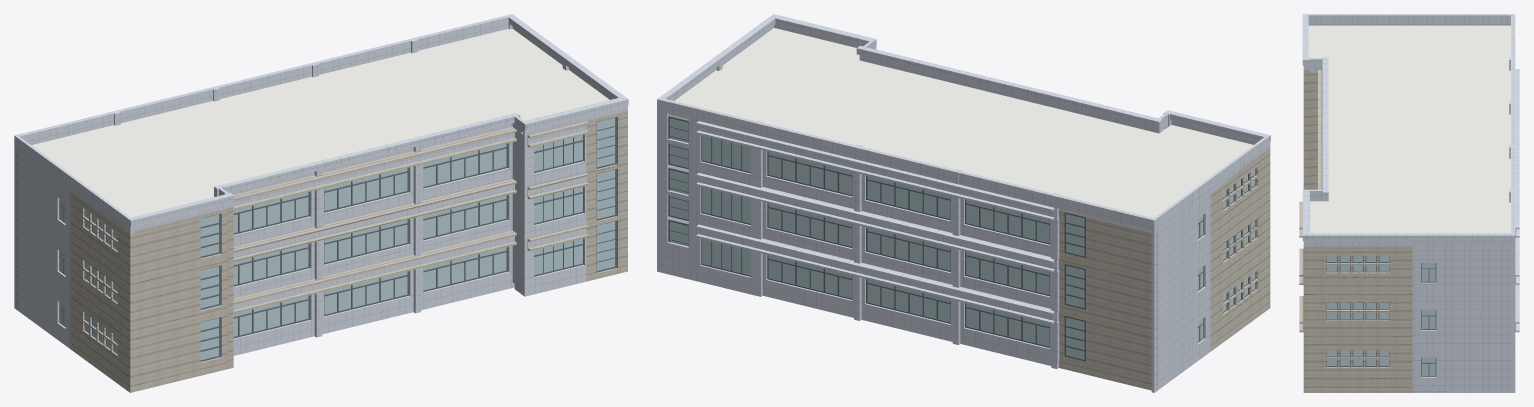
File: bangonglou3.gltf
3 views of the same model, side by side, from view 1: azimuth 30°, elevation 25°; view 2: azimuth 150°, elevation 25°; view 3: azimuth 270°, elevation 25° (orthographic). The views are drawn at different scales.
Visible parts, largest first — view 1: Line01, Rectangle450, Rectangle44, Rectangle49, Rectangle52, Rectangle06, Rectangle18, Rectangle30, Rectangle78, Rectangle116, Rectangle132, Rectangle135 (+57 smaller); view 2: Line01, Rectangle450, Rectangle273, Rectangle191, Rectangle232, Rectangle220, Rectangle194, Rectangle208, Rectangle186, Rectangle116, Rectangle135, Rectangle132 (+53 smaller); view 3: Line01, Rectangle296, Rectangle291, Rectangle299, Rectangle310, Rectangle309, Rectangle311, Rectangle366, Rectangle457, Rectangle305, Rectangle300, Rectangle308 (+25 smaller).
Boxes of the visible parts, bbox=[...] form: Line01: bbox=[31, 28, 609, 217]; Rectangle450: bbox=[14, 15, 508, 148]; Rectangle44: bbox=[128, 208, 227, 283]; Rectangle49: bbox=[128, 260, 227, 335]; Rectangle52: bbox=[128, 312, 227, 386]; Rectangle06: bbox=[233, 127, 512, 246]; Rectangle18: bbox=[233, 179, 512, 298]; Rectangle30: bbox=[233, 231, 512, 350]; Rectangle78: bbox=[586, 111, 625, 281]; Rectangle116: bbox=[214, 112, 520, 195]; Rectangle132: bbox=[70, 240, 132, 335]; Rectangle135: bbox=[70, 292, 132, 387]; Line01: bbox=[669, 28, 1253, 232]; Rectangle450: bbox=[663, 99, 1156, 231]; Rectangle273: bbox=[657, 105, 698, 275]; Rectangle191: bbox=[1059, 259, 1157, 333]; Rectangle232: bbox=[762, 239, 1059, 360]; Rectangle220: bbox=[762, 188, 1059, 308]; Rectangle194: bbox=[1059, 311, 1157, 385]; Rectangle208: bbox=[762, 150, 1059, 256]; Rectangle186: bbox=[1059, 210, 1157, 282]; Rectangle116: bbox=[856, 45, 1162, 126]; Rectangle135: bbox=[1210, 252, 1268, 345]; Rectangle132: bbox=[1210, 200, 1268, 293]; Line01: bbox=[1308, 25, 1510, 232]; Rectangle296: bbox=[1306, 293, 1412, 340]; Rectangle291: bbox=[1306, 246, 1412, 293]; Rectangle299: bbox=[1306, 340, 1412, 387]; Rectangle310: bbox=[1445, 293, 1512, 340]; Rectangle309: bbox=[1445, 246, 1512, 293]; Rectangle311: bbox=[1445, 340, 1512, 387]; Rectangle366: bbox=[1308, 14, 1510, 25]; Rectangle457: bbox=[1302, 233, 1515, 241]; Rectangle305: bbox=[1412, 293, 1445, 340]; Rectangle300: bbox=[1412, 246, 1445, 293]; Rectangle308: bbox=[1412, 340, 1445, 387].
Bounding box in the file's own units: 0.0348 × 0.0115 × 0.0146.
5 materials, 2 textured.
